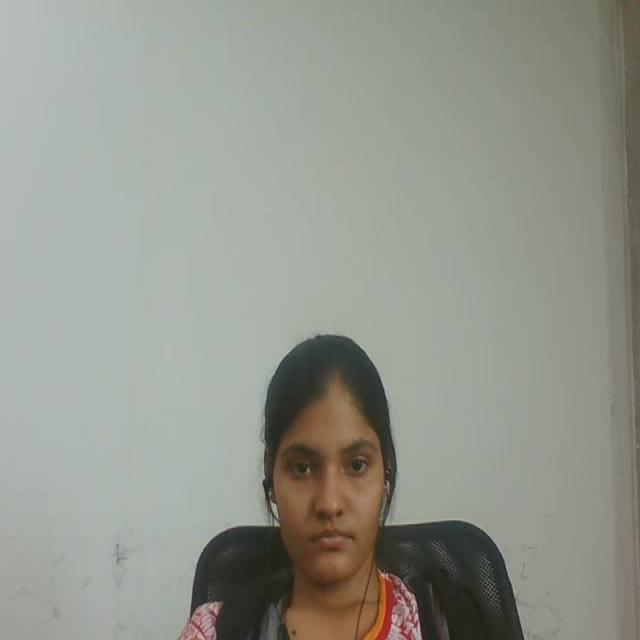Engaged: (209, 300, 435, 632)
